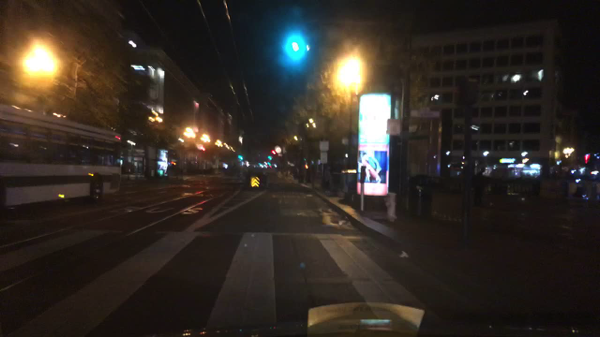bus: (0, 104, 122, 217)
person: (473, 166, 485, 209), (323, 166, 330, 194), (573, 165, 581, 181)
traffic light: (291, 41, 299, 52), (267, 155, 272, 162), (271, 150, 276, 155), (237, 155, 242, 160)
traffic sign: (387, 119, 400, 134), (250, 175, 260, 190), (319, 142, 329, 152), (320, 154, 328, 165)
